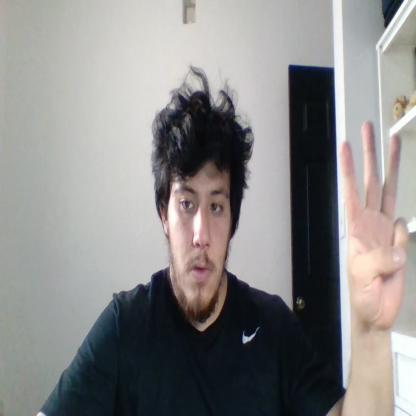W: (340, 119, 408, 330)
